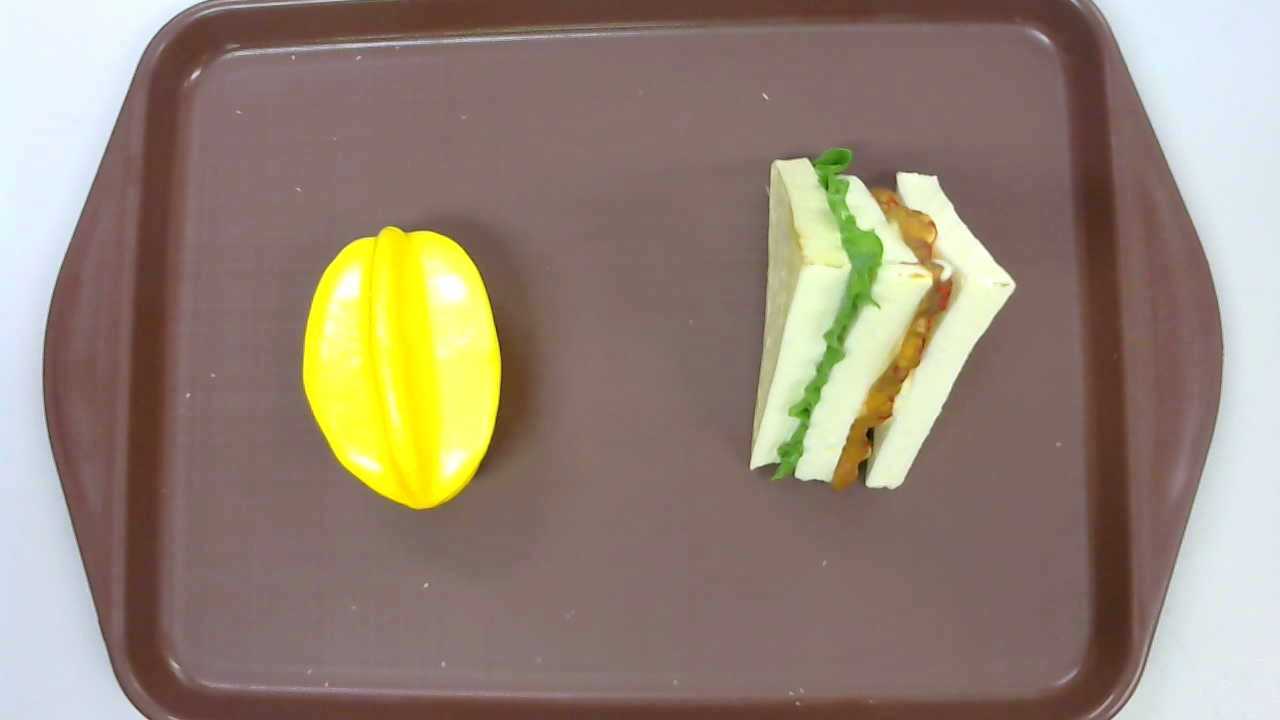sandwich: (748, 146, 1016, 492)
star fruit: (297, 225, 500, 511)
